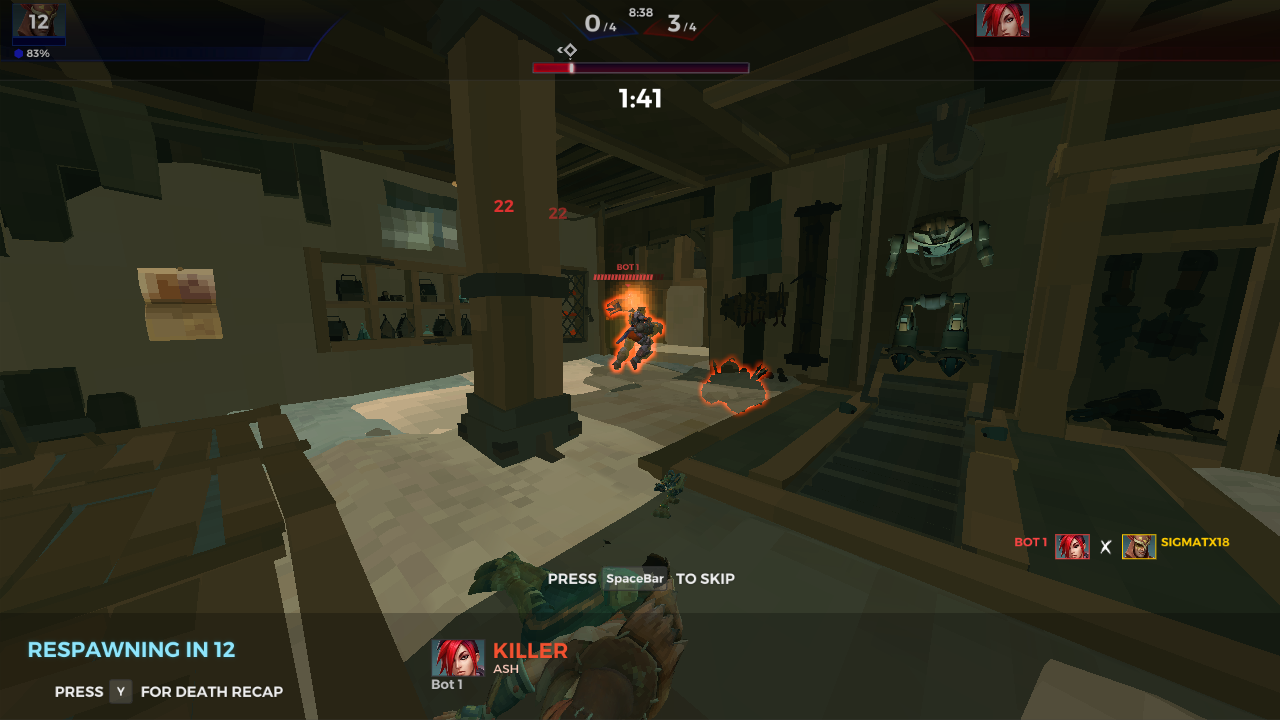model: (619, 298, 656, 375)
